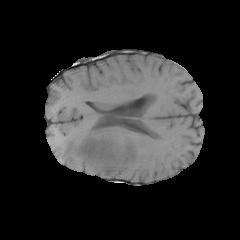glioma: (60, 115, 139, 177)
